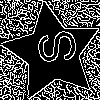S: (27, 27, 78, 68)
